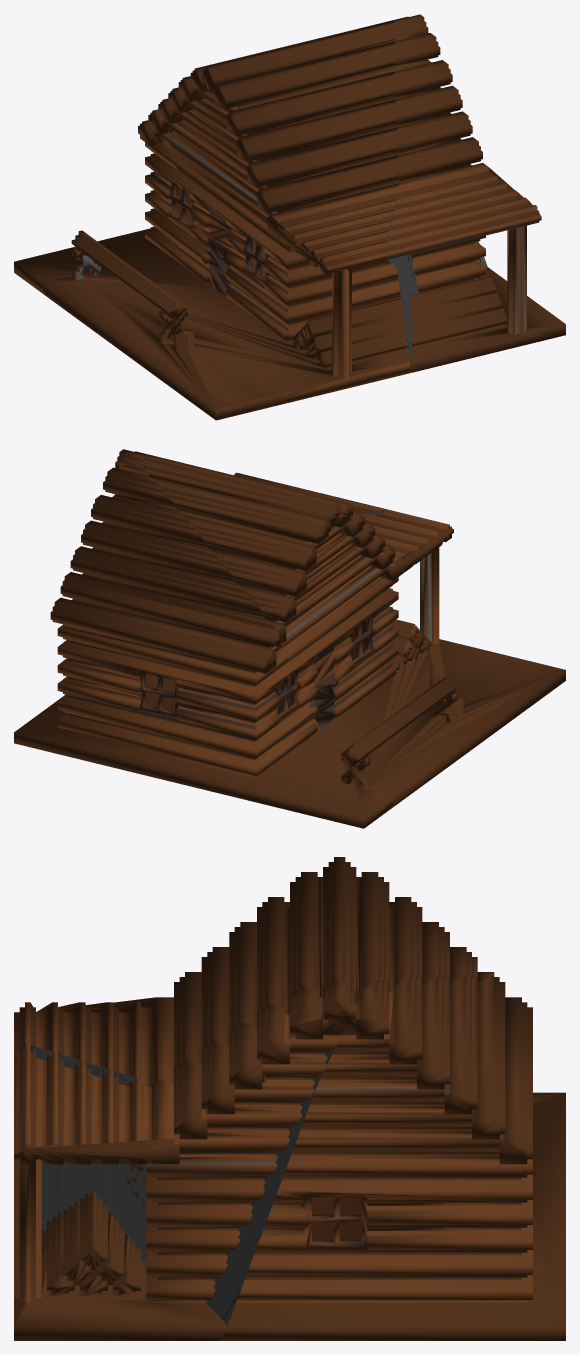
The model's file is LumberjackBuildingDestroyed.fbx.
3 views of the same model, one above another, from view 1: azimuth 30°, elevation 25°; view 2: azimuth 150°, elevation 25°; view 3: azimuth 270°, elevation 25° (orthographic). The views are drawn at different scales.
Parts seen in each view (by area): view 1: LumberjackHutPlattformFertig_cell.001, LumberjackHutPlattformFertig_cell.012, LumberjackHutPlattformFertig_cell; view 2: LumberjackHutPlattformFertig_cell, LumberjackHutPlattformFertig_cell.001, LumberjackHutPlattformFertig_cell.012; view 3: LumberjackHutPlattformFertig_cell, LumberjackHutPlattformFertig_cell.012, LumberjackHutPlattformFertig_cell.001.
Part boxes in pixels (left/top/right/bottom): LumberjackHutPlattformFertig_cell.001: left=41, top=20, right=411, bottom=420; LumberjackHutPlattformFertig_cell.012: left=385, top=14, right=565, bottom=372; LumberjackHutPlattformFertig_cell: left=14, top=16, right=408, bottom=294; LumberjackHutPlattformFertig_cell: left=14, top=462, right=394, bottom=828; LumberjackHutPlattformFertig_cell.001: left=139, top=456, right=565, bottom=806; LumberjackHutPlattformFertig_cell.012: left=115, top=449, right=387, bottom=516; LumberjackHutPlattformFertig_cell: left=220, top=974, right=565, bottom=1340; LumberjackHutPlattformFertig_cell.012: left=14, top=979, right=356, bottom=1340; LumberjackHutPlattformFertig_cell.001: left=14, top=857, right=494, bottom=1087.
Bounding box in the file's own units: 1000 × 650 × 1000.
